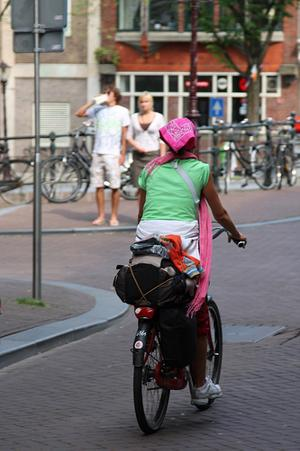person: (132, 118, 248, 407)
